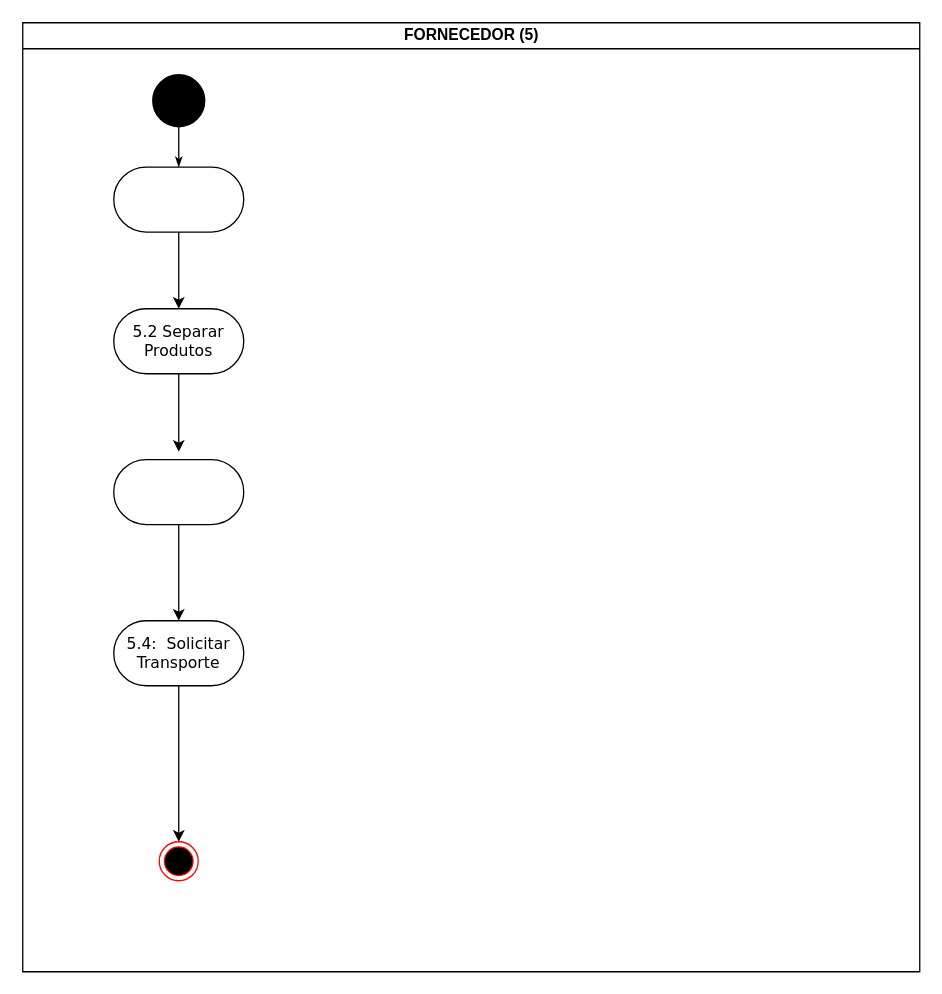
Some shapes in this 942 by 994 pixel diagram are drawn without their labels. Each missing label, with the box of its shape:
5.1 Receber Pedido: (112, 166, 244, 232)
5.3: Emitir NF: (112, 458, 244, 525)
